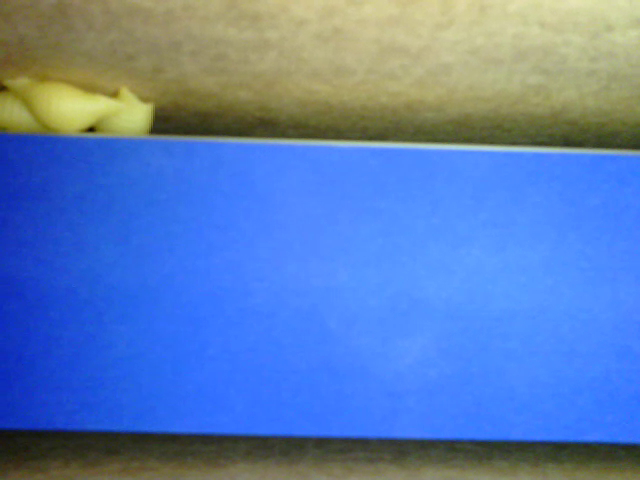shell: (1, 75, 132, 137), (91, 87, 158, 137), (1, 88, 61, 137)
